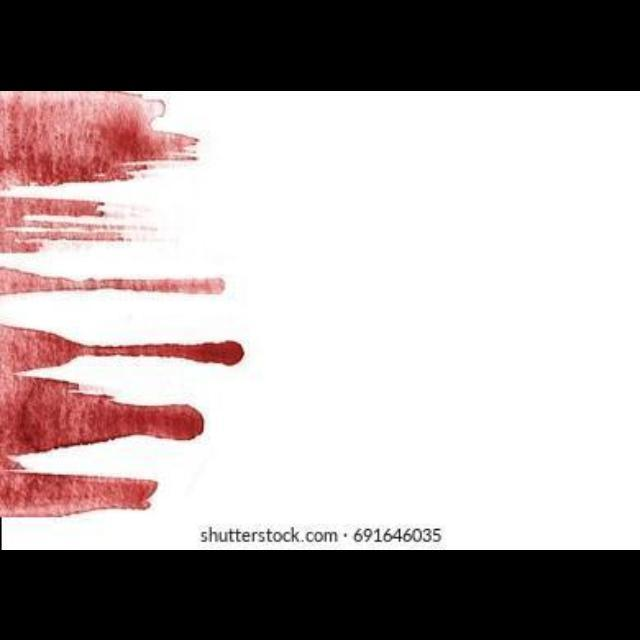blood: (0, 323, 243, 516), (0, 90, 197, 188), (0, 193, 156, 252)
